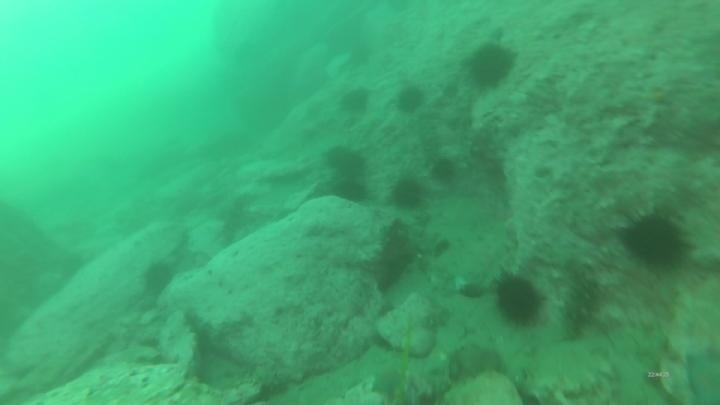echinus: (618, 208, 692, 273), (492, 272, 545, 328), (465, 40, 517, 91), (323, 144, 369, 178), (388, 174, 427, 212), (140, 259, 177, 297), (332, 176, 370, 206), (393, 83, 427, 116), (337, 85, 372, 117), (428, 155, 460, 186)
holothurian: (556, 250, 600, 341)
starfish: (682, 346, 720, 405), (368, 365, 411, 402)
